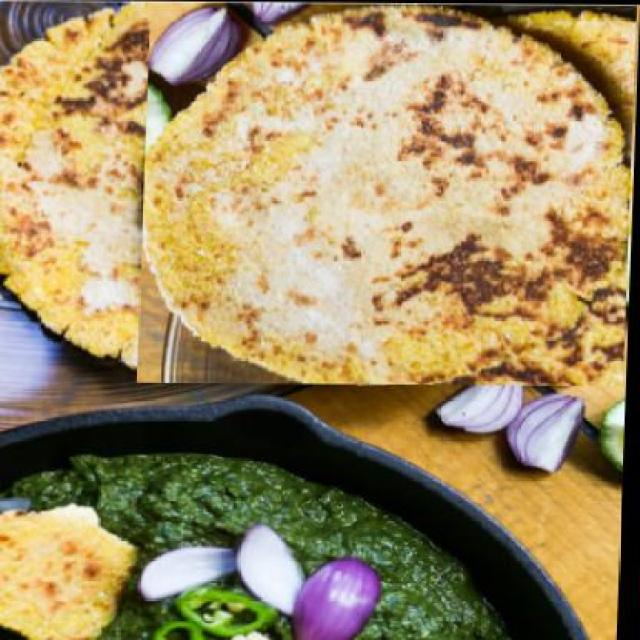chapati: (138, 1, 638, 387), (0, 0, 301, 378)
